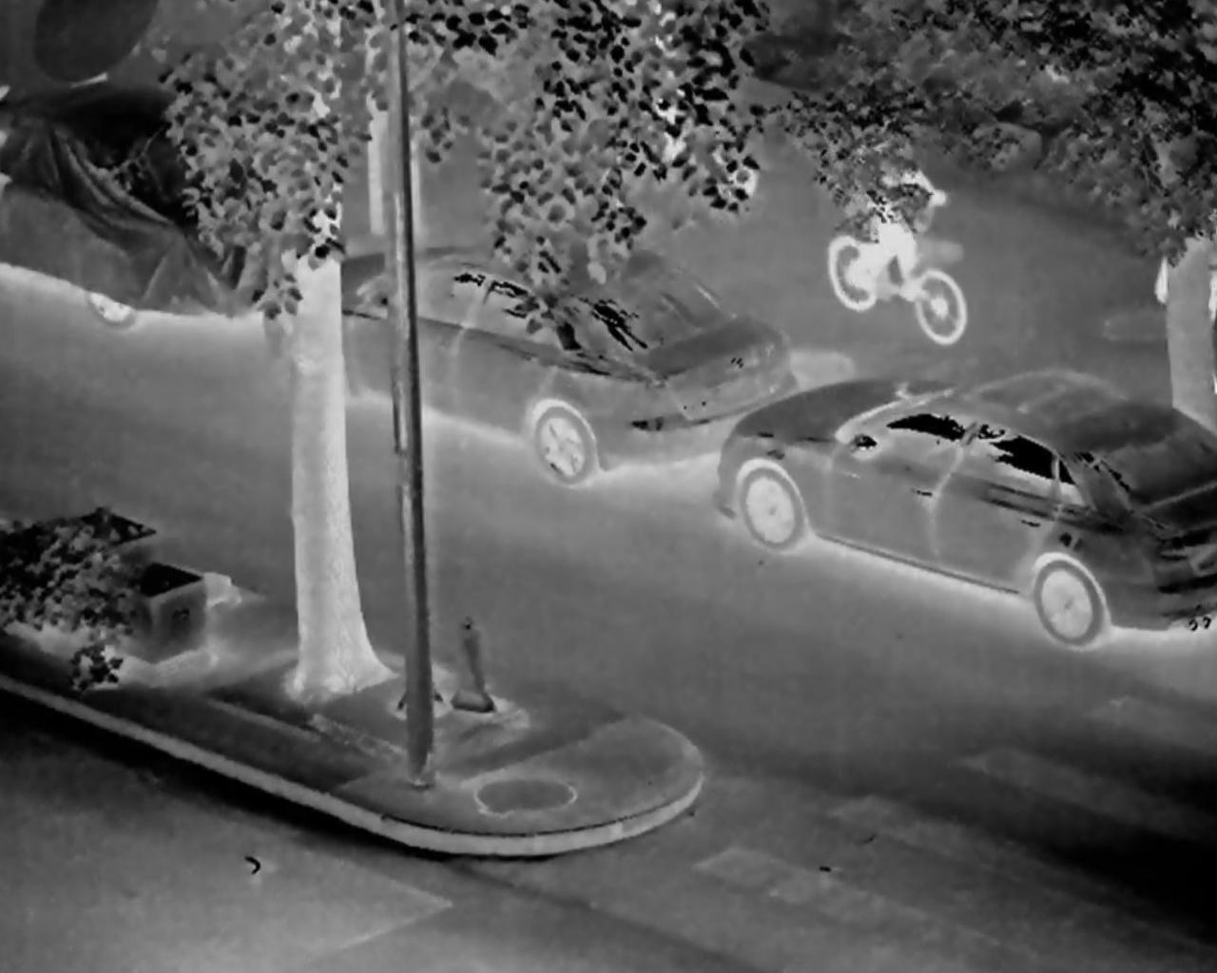person: (849, 117, 943, 300)
